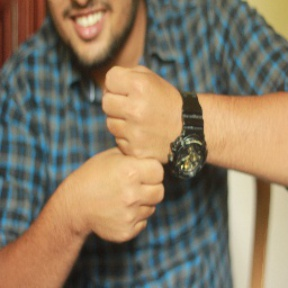G: (78, 61, 179, 246)
